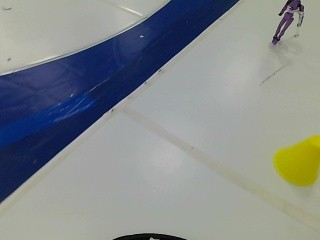cone: (268, 133, 318, 189)
pedestrian: (268, 0, 310, 47)
